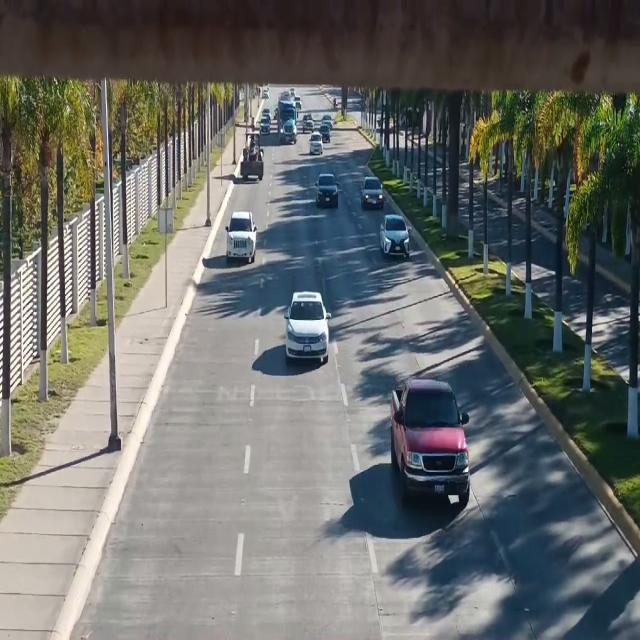Auto: (388, 382, 471, 508), (286, 288, 329, 368), (226, 210, 257, 266), (378, 215, 410, 260), (359, 170, 387, 212), (313, 176, 341, 213), (306, 132, 325, 156)
